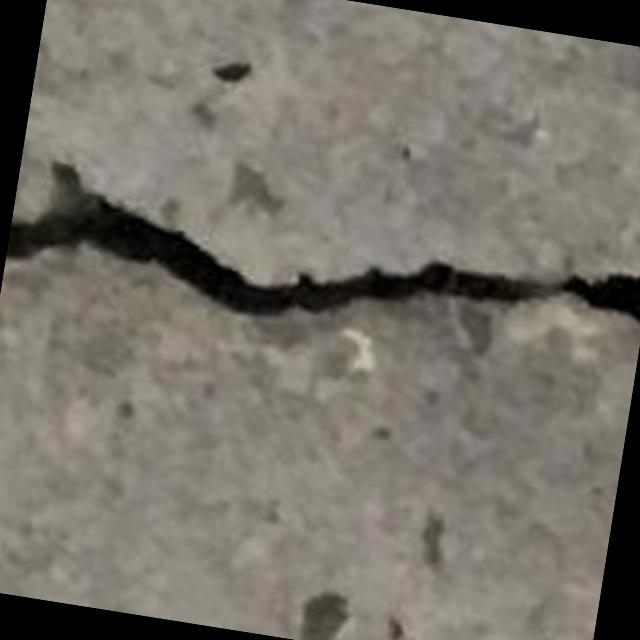crack: (6, 160, 639, 323)
